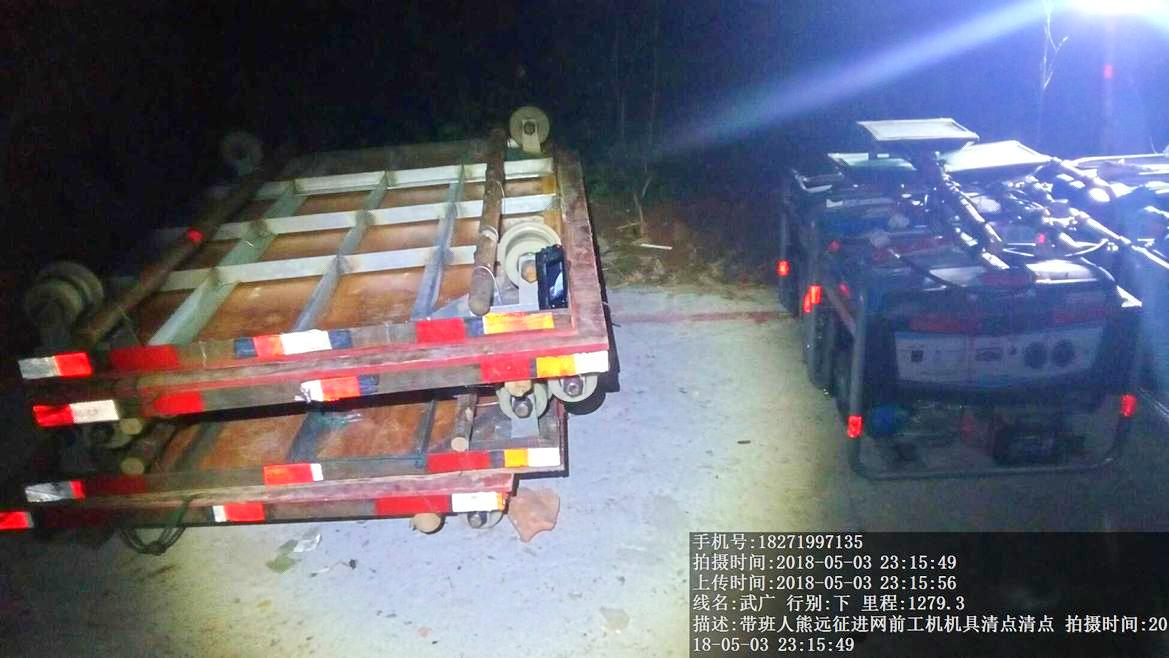DJ: (820, 219, 1147, 478), (760, 149, 1038, 235)
